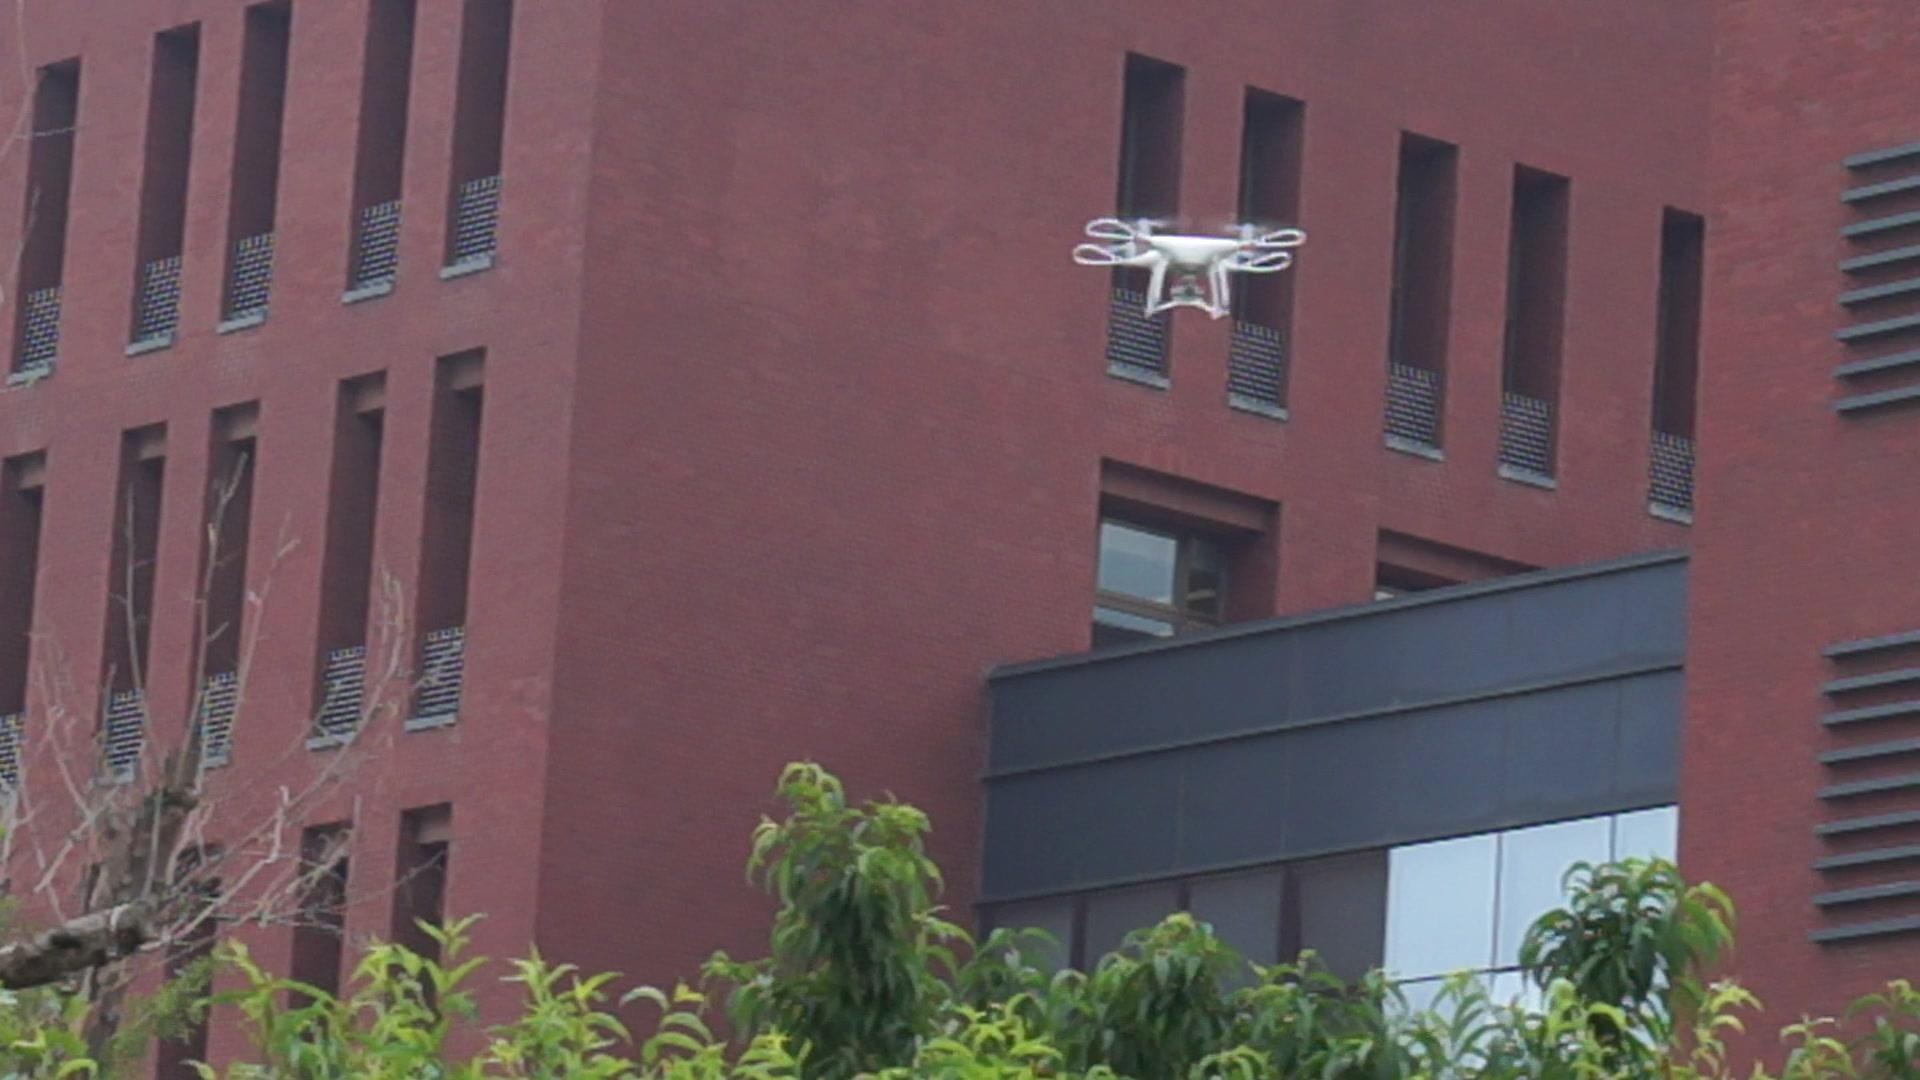UAV: (1073, 219, 1308, 320)
